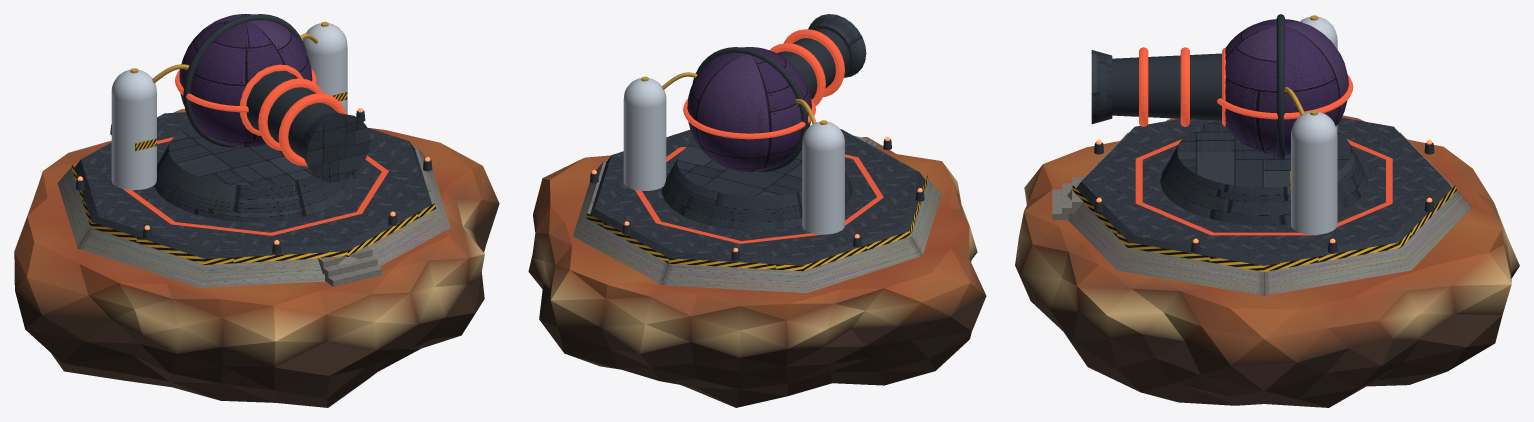
File: thermobaric-L1.glb
3 renders of one model, left to right at view 1: azimuth 30°, elevation 25°; view 2: azimuth 150°, elevation 25°; view 3: azimuth 270°, elevation 25°, orthographic. The views are drawn at different scales.
Size of the model in its own units: 6.49 by 4.31 by 6.07.
Materials: 13 (6 with a texture image).
